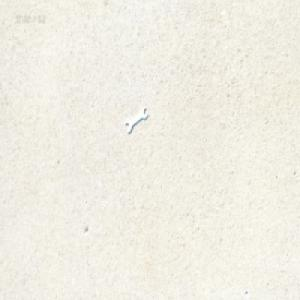Wrench: (124, 106, 146, 134)
